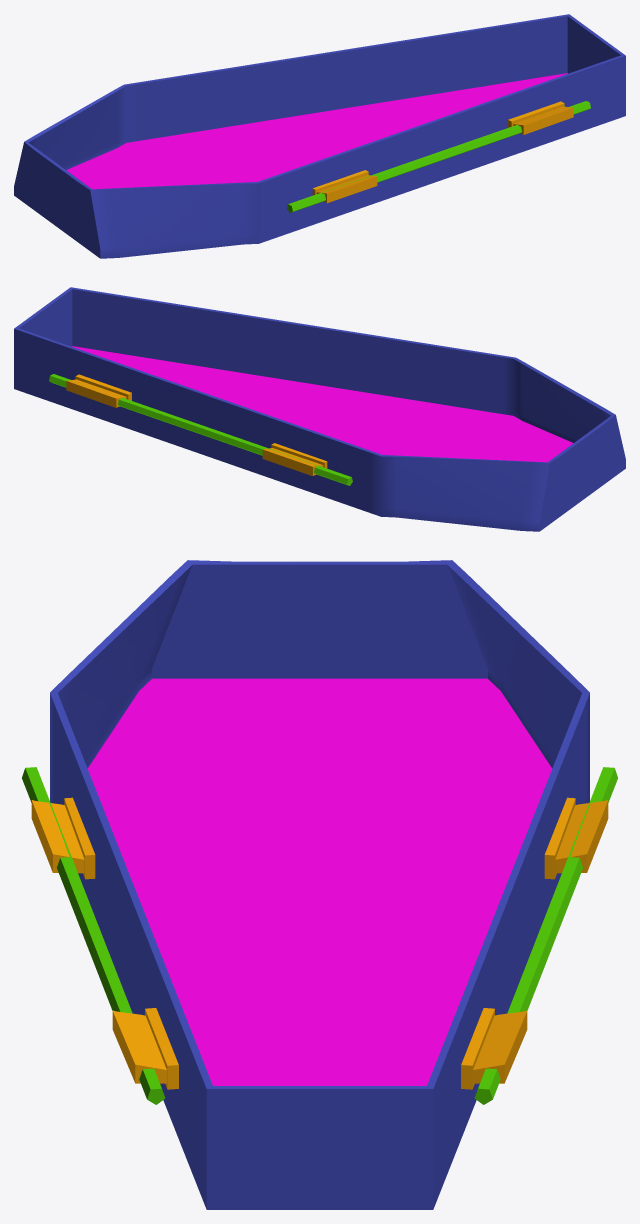
The model's file is Ataud.fbx.
3 renders of one model, top to bottom at view 1: azimuth 30°, elevation 25°; view 2: azimuth 150°, elevation 25°; view 3: azimuth 270°, elevation 25°, orthographic. The views are drawn at different scales.
Visible parts, largest first — view 1: Cuerpo, pCube4; view 2: Cuerpo, pCube4; view 3: Cuerpo, pCube4.
Boxes of the visible parts, x1,y1,x2,y2 form: Cuerpo: (14,14,625,258); pCube4: (287,101,590,212); Cuerpo: (14,287,625,531); pCube4: (49,374,352,485); Cuerpo: (50,560,589,1209); pCube4: (22,767,617,1104).
Bounding box in the file's own units: 9.11 × 0.9892 × 4.35.
